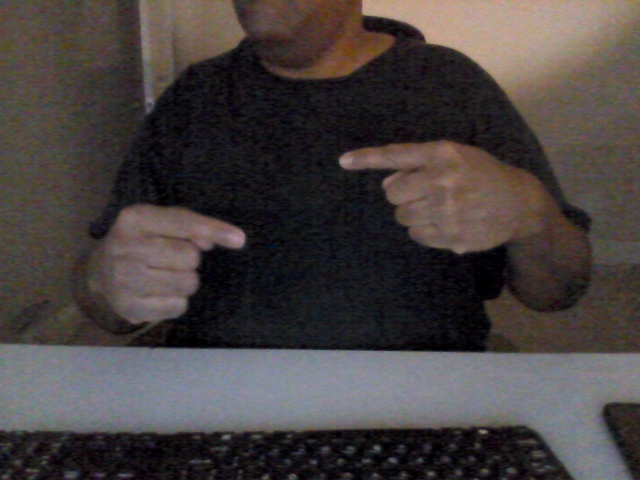go: (89, 133, 520, 331)
